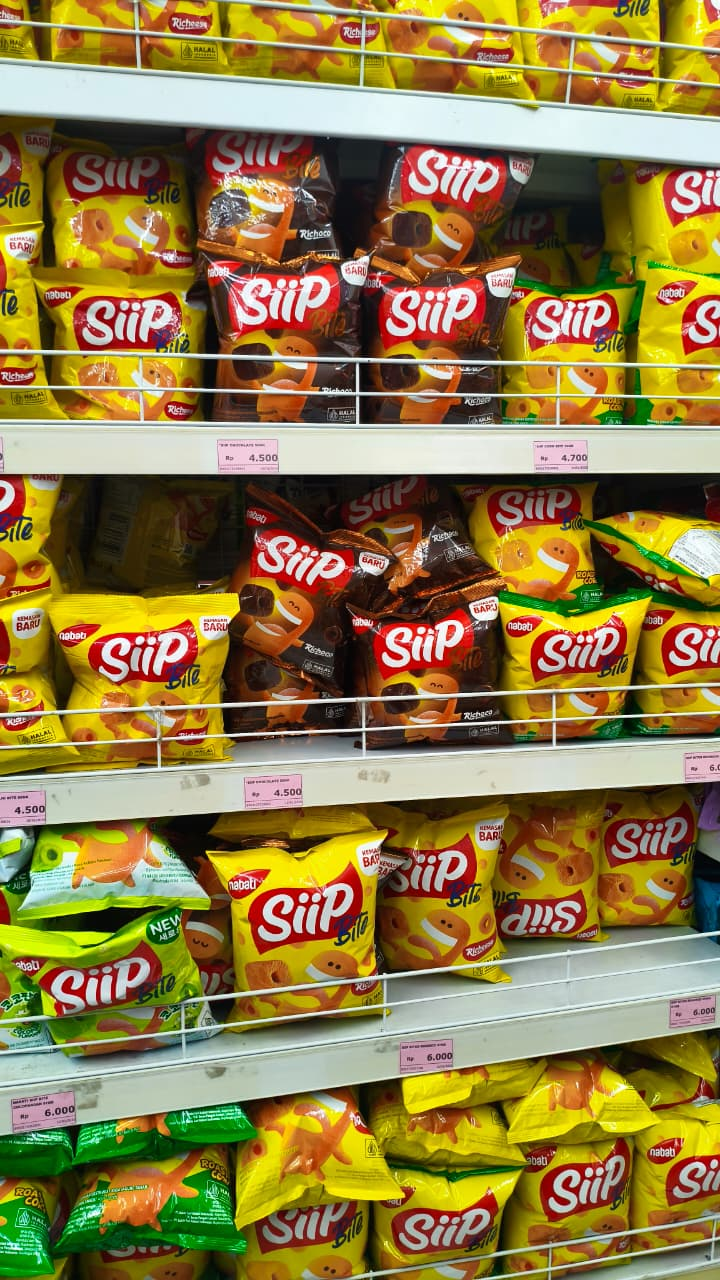Siip: (64, 606, 220, 711), (36, 276, 192, 381), (212, 256, 368, 361), (371, 270, 527, 375), (501, 592, 657, 697), (229, 855, 385, 960), (500, 1131, 656, 1236), (564, 796, 720, 901)
